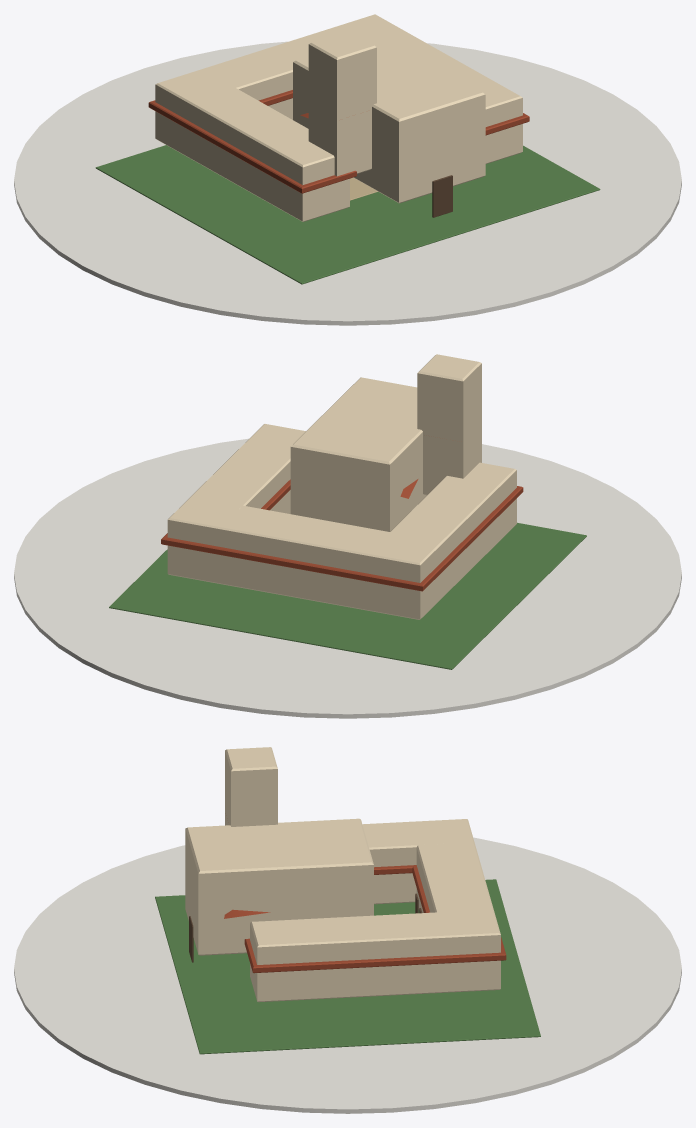
File: mosteiro-de-sao-bento.glb
3 views of the same model, one above another, from view 1: azimuth 30°, elevation 25°; view 2: azimuth 150°, elevation 25°; view 3: azimuth 270°, elevation 25° (orthographic).
Visible parts, largest first — view 1: Base_Pedestal, Terreno_Mosteiro, Igreja, Ala_Oeste, Campanario, Ala_Norte, Ala_Leste, Telhado_Oeste, Porta_Igreja, Telhado_Norte; view 2: Base_Pedestal, Terreno_Mosteiro, Ala_Norte, Igreja, Ala_Oeste, Campanario, Ala_Leste, Telhado_Norte, Telhado_Oeste; view 3: Base_Pedestal, Terreno_Mosteiro, Igreja, Ala_Leste, Ala_Norte, Campanario, Ala_Oeste, Telhado_Leste, Telhado_Norte.
Part boxes in pixels (box(x1,y1,x2,y2)): Base_Pedestal: box(14, 41, 681, 325); Terreno_Mosteiro: box(95, 145, 600, 284); Igreja: box(293, 34, 485, 203); Ala_Oeste: box(173, 79, 349, 221); Campanario: box(308, 31, 376, 176); Ala_Norte: box(155, 14, 392, 148); Ala_Leste: box(357, 24, 522, 163); Telhado_Oeste: box(166, 112, 356, 193); Porta_Igreja: box(432, 175, 452, 217); Telhado_Norte: box(148, 90, 292, 130); Base_Pedestal: box(14, 438, 681, 718); Terreno_Mosteiro: box(109, 522, 586, 669); Ala_Norte: box(167, 505, 431, 619); Igreja: box(290, 377, 426, 531); Ala_Oeste: box(380, 462, 516, 607); Campanario: box(417, 354, 481, 495); Ala_Leste: box(181, 424, 305, 515); Telhado_Norte: box(161, 533, 449, 591); Telhado_Oeste: box(434, 486, 523, 579); Base_Pedestal: box(14, 837, 681, 1113); Terreno_Mosteiro: box(155, 879, 540, 1054); Igreja: box(185, 818, 373, 955); Ala_Leste: box(250, 911, 471, 1002); Ala_Norte: box(416, 819, 500, 991); Campanario: box(225, 747, 277, 826); Ala_Oeste: box(362, 820, 443, 904); Telhado_Leste: box(244, 938, 477, 973); Telhado_Norte: box(412, 865, 506, 963).
Bounding box in the file's own units: 68 × 21.2 × 68.
